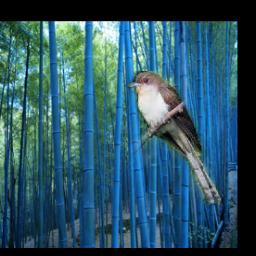Cuckoo: (127, 71, 221, 206)
